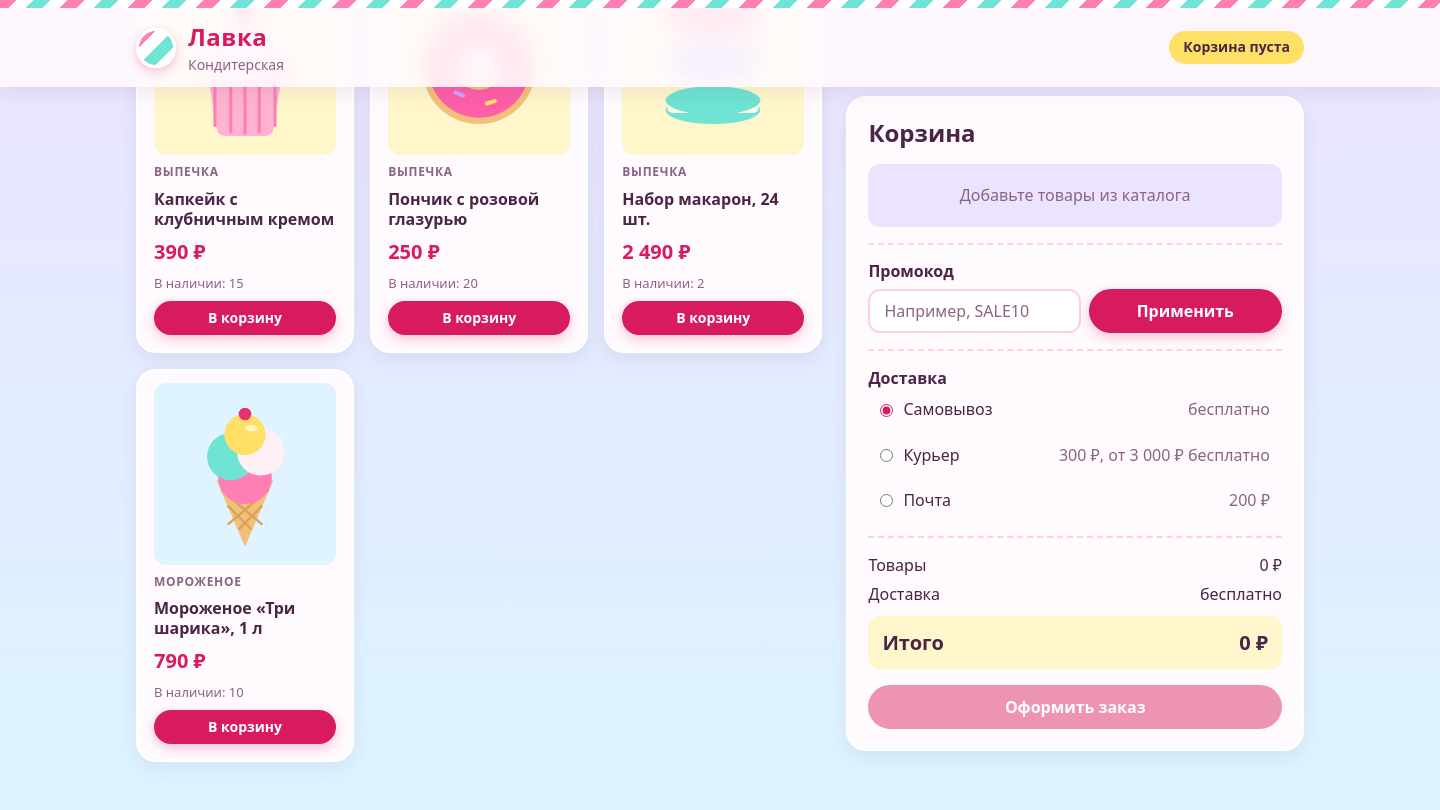
Test case: «Лавка» на React 19 › отклоняет неизвестные и истекшие промокоды
(page scrolled)
Click the button with aria-label "В корзину: Мороженое «Три шарика», 1 л" at {"x": 245, "y": 727}, box [154, 710, 336, 744]
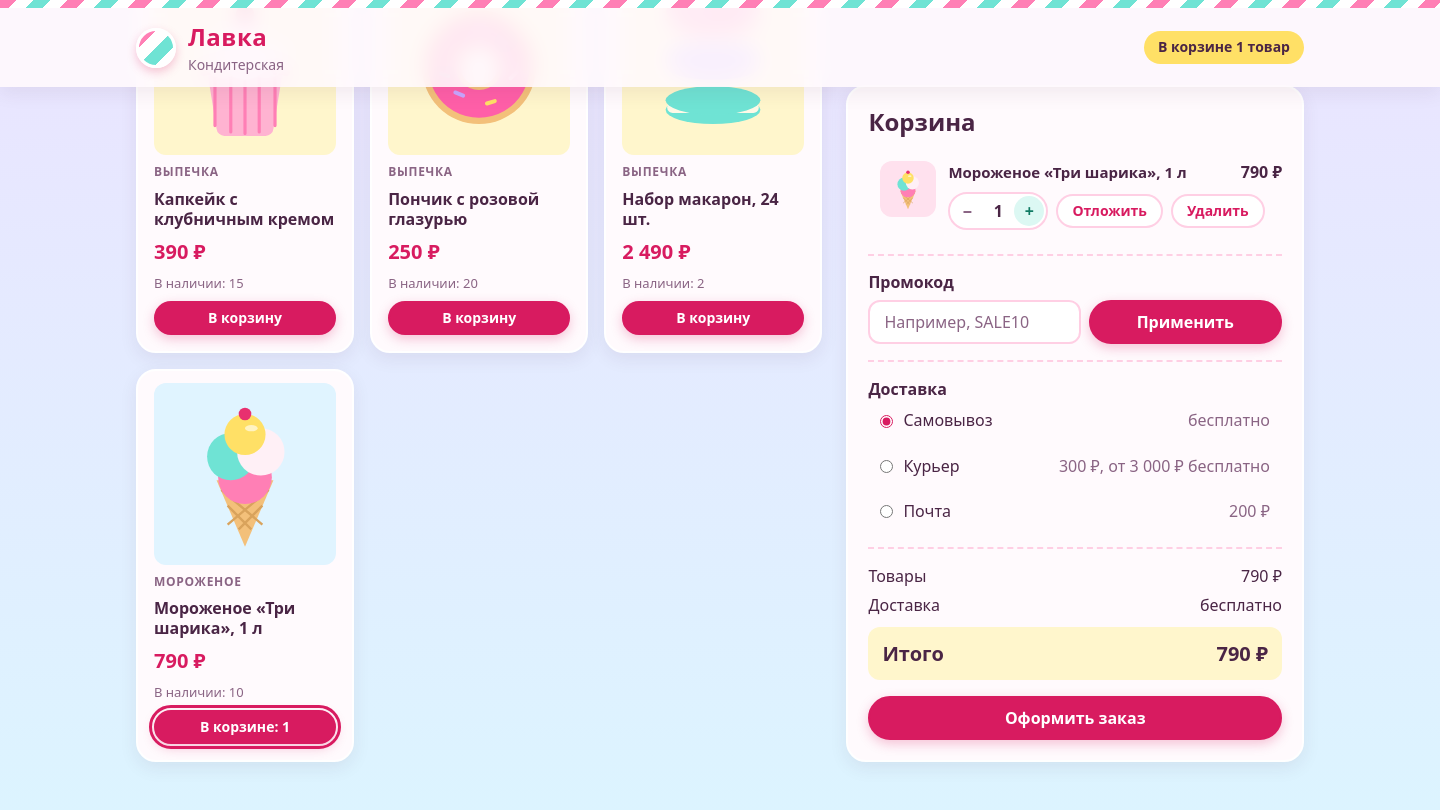
Type "NOPE" into the field named "Введите промокод" at {"x": 974, "y": 322}, box [868, 300, 1081, 344]
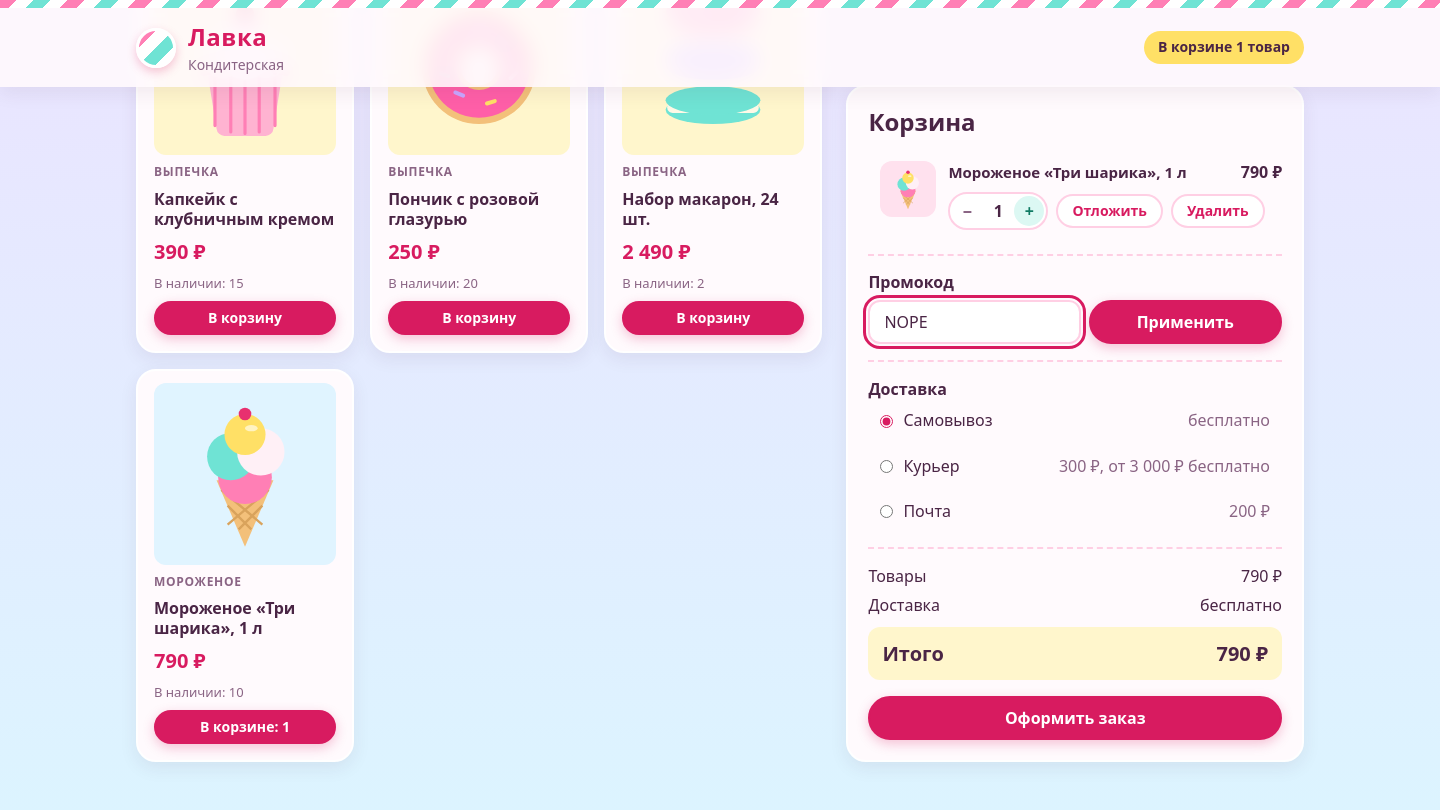
Click the button "Применить" at {"x": 1185, "y": 322}, box [1088, 300, 1282, 344]
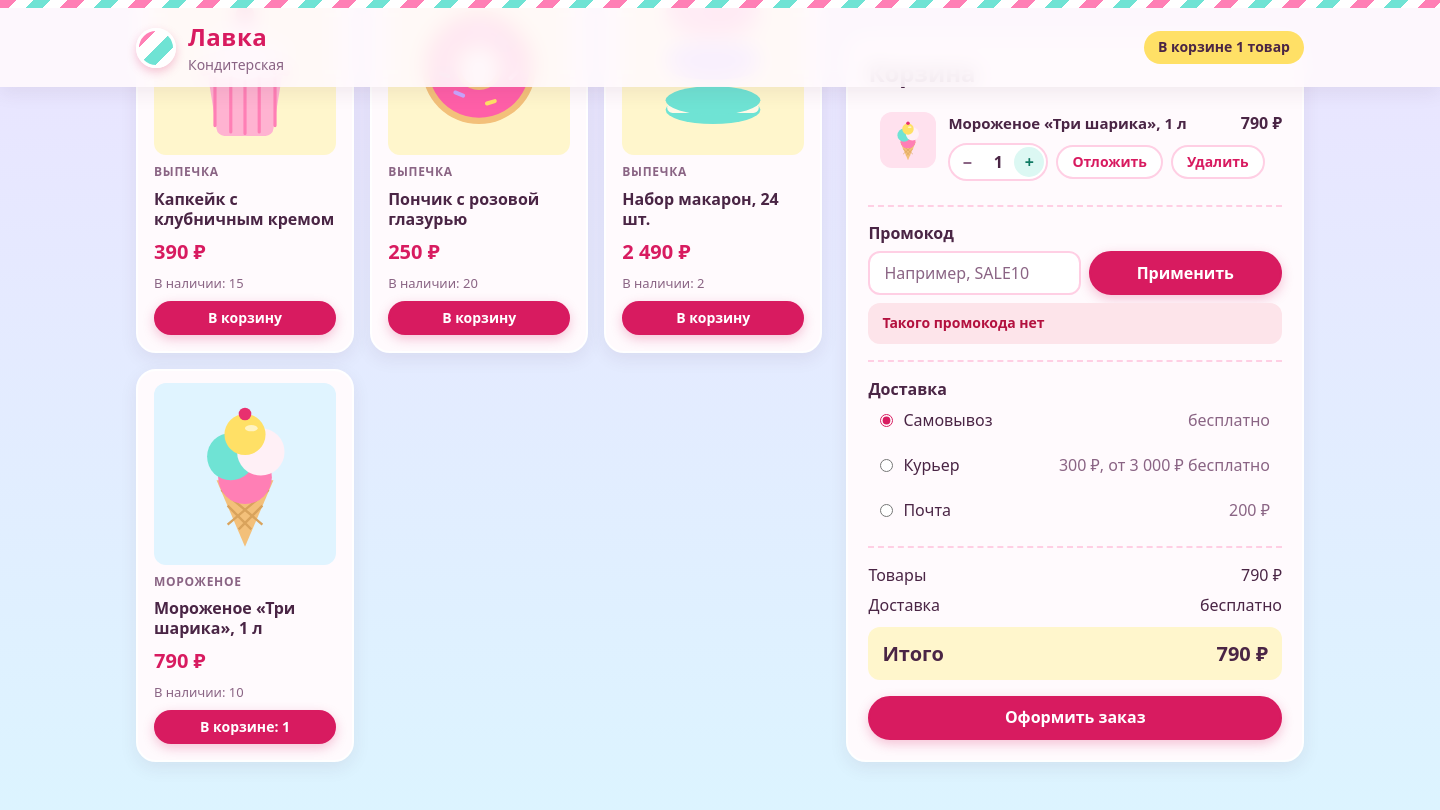
Result: the message reads "Такого промокода нет" at [882, 314, 1045, 333]
Type "SUMMER2022" into the field named "Введите промокод" at {"x": 974, "y": 274}, box [868, 252, 1081, 296]
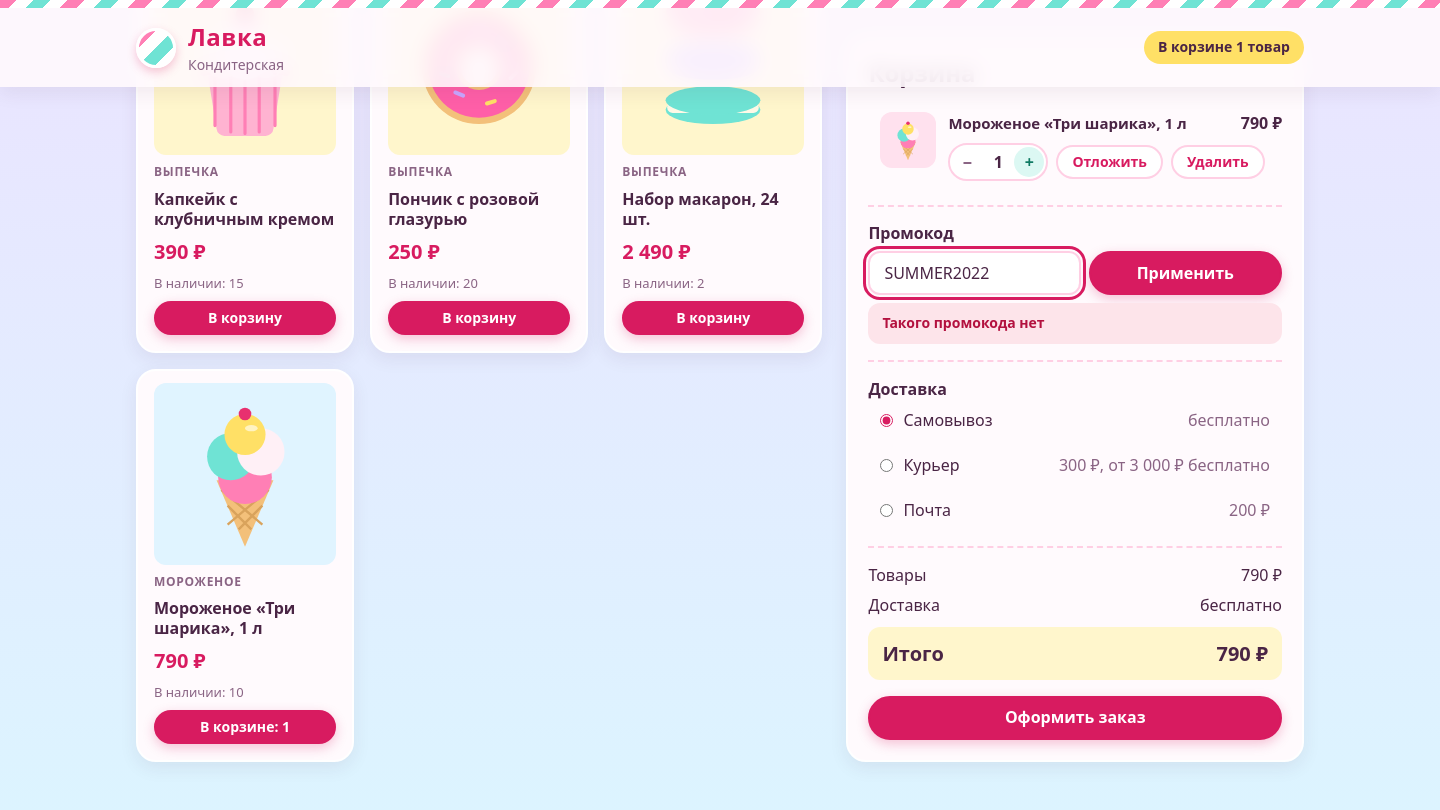
Click the button "Применить" at {"x": 1185, "y": 274}, box [1088, 252, 1282, 296]
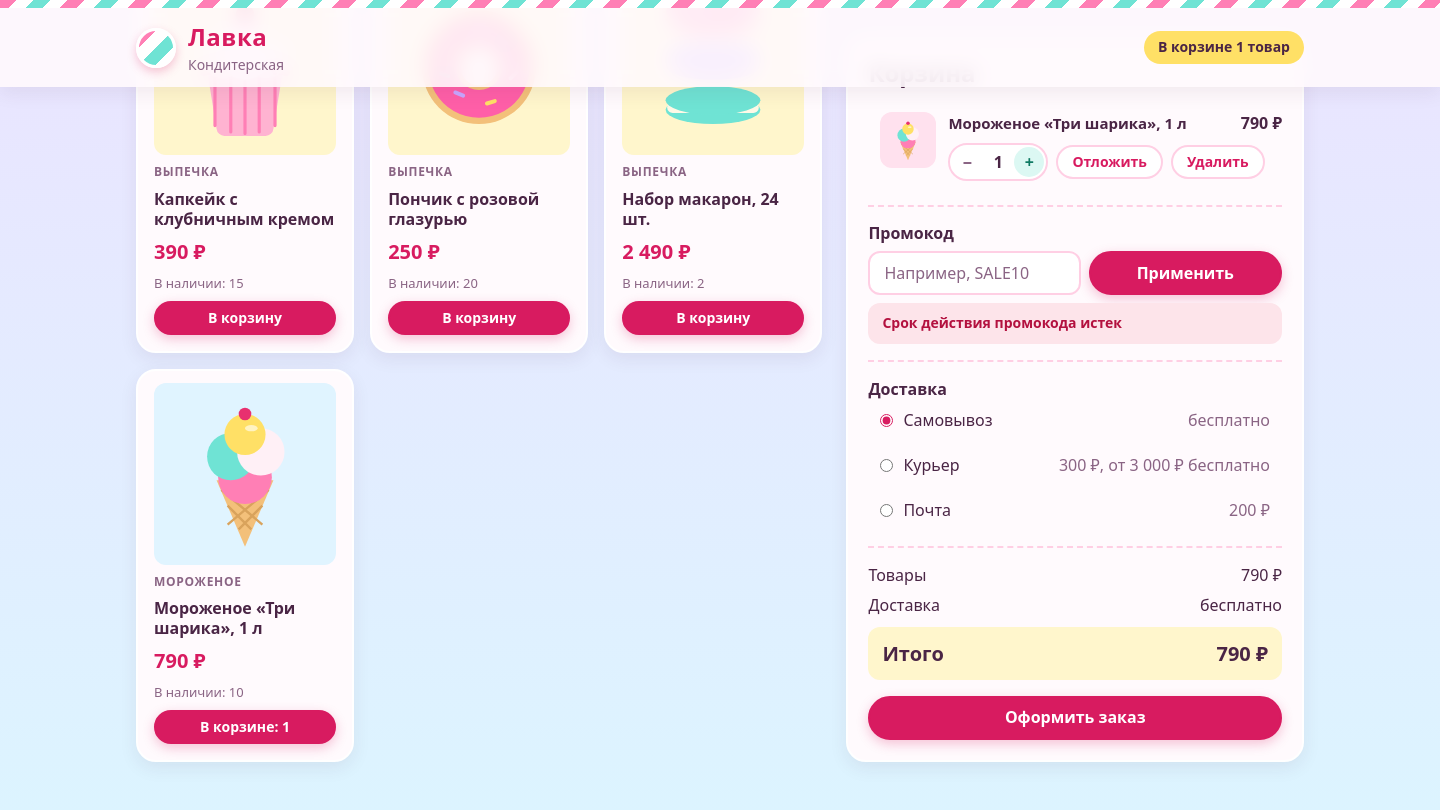
Result: the message reads "Срок действия промокода истек" at [882, 314, 1122, 333]
